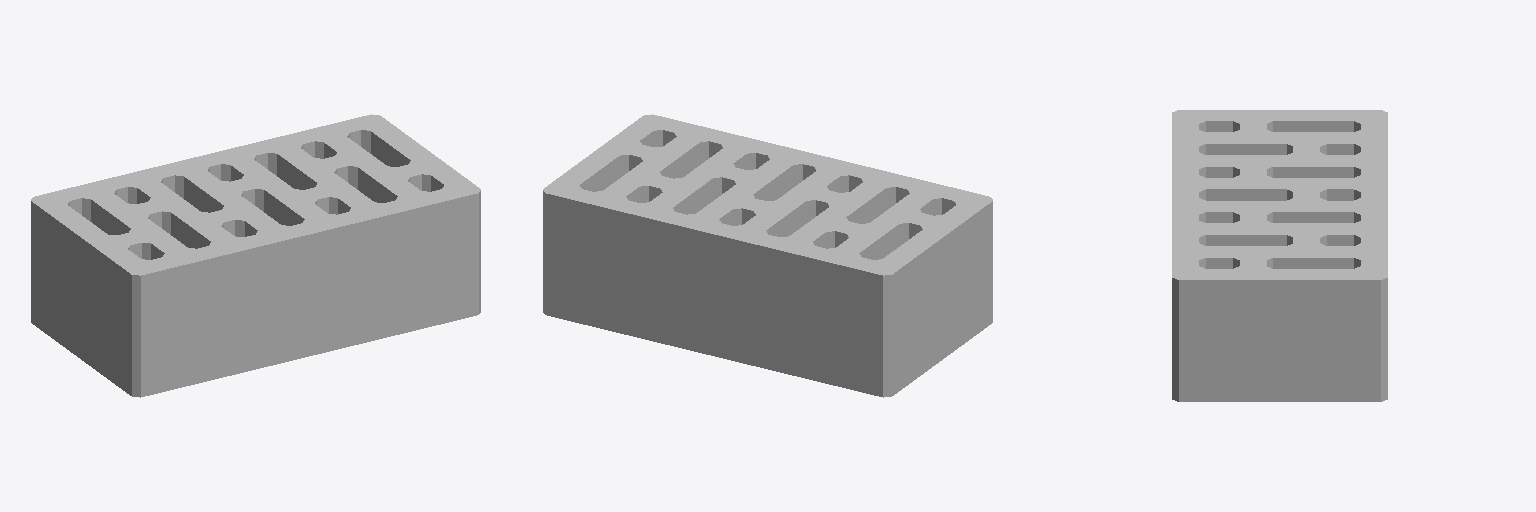
File: brick.obj
3 views of the same model, side by side, from view 1: azimuth 30°, elevation 25°; view 2: azimuth 150°, elevation 25°; view 3: azimuth 270°, elevation 25° (orthographic).
Visible parts, largest first — view 1: brick; view 2: brick; view 3: brick.
Part boxes in pixels (left/top/right/bottom): brick: left=31, top=114, right=480, bottom=397; brick: left=543, top=114, right=992, bottom=397; brick: left=1172, top=110, right=1387, bottom=401.
Bounding box in the file's own units: 0.42 × 0.14 × 0.224.